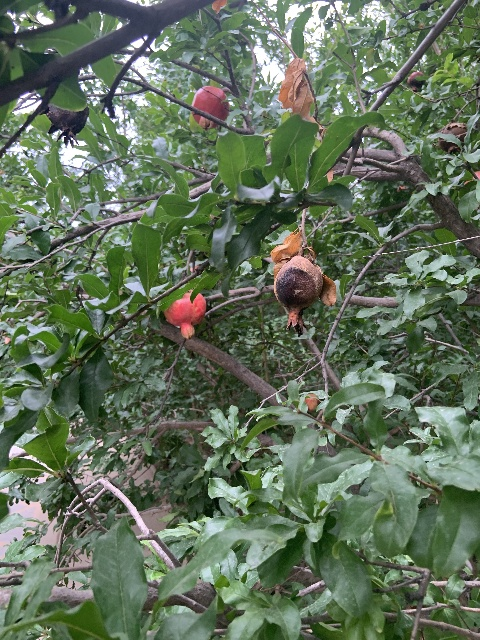ripe: (163, 289, 206, 339), (191, 86, 230, 129)
